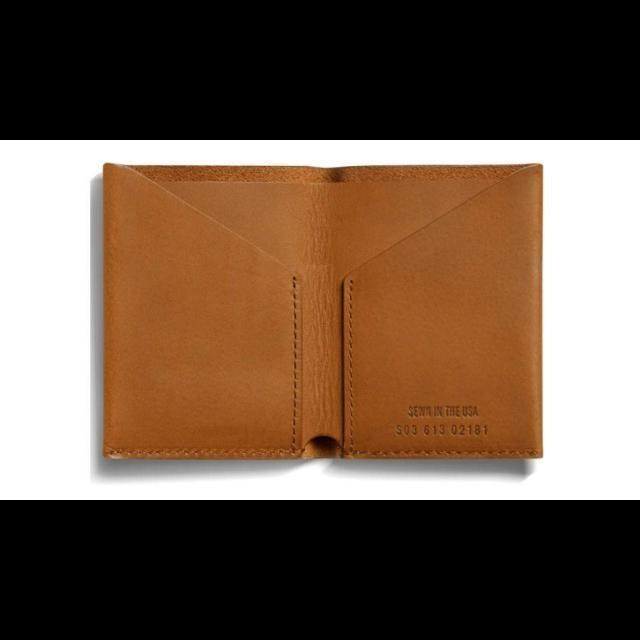Wallet: (104, 165, 542, 458)
